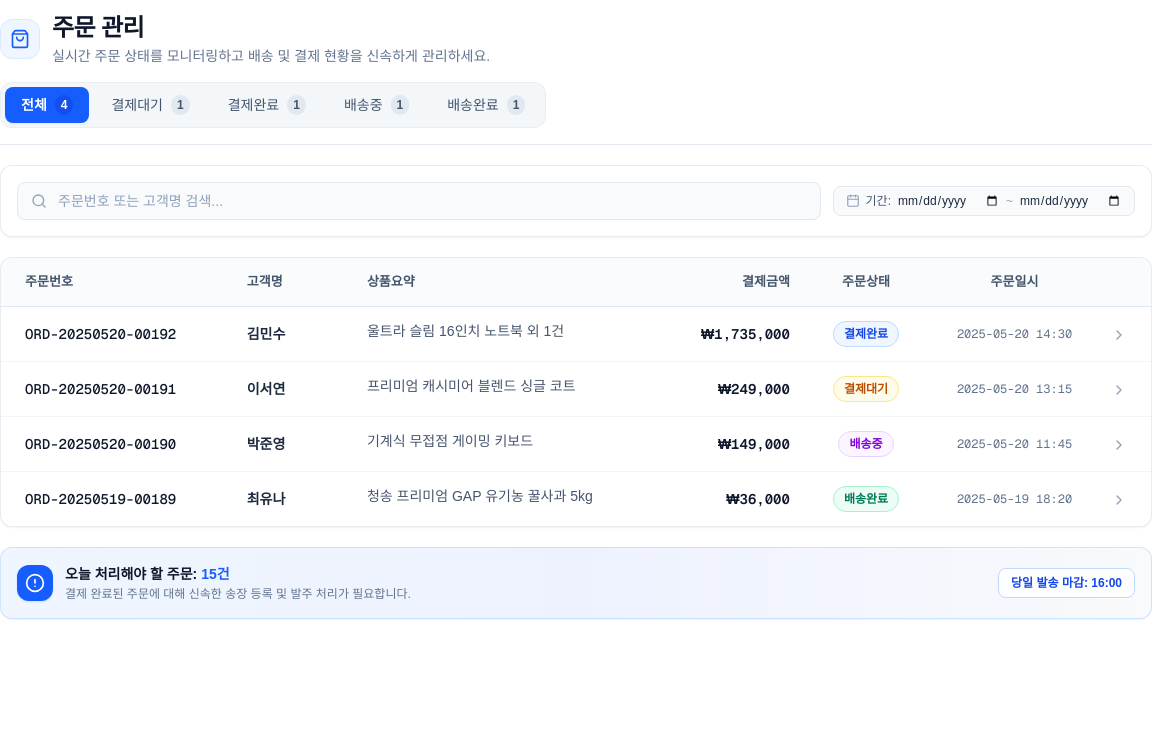
Scenario: OrderView Component (Integration Test) › 상태별 탭 클릭 시 해당 상태의 주문만 필터링된다
Click the button "배송중 1". click: click(377, 105)
box: [328,87,425,123]
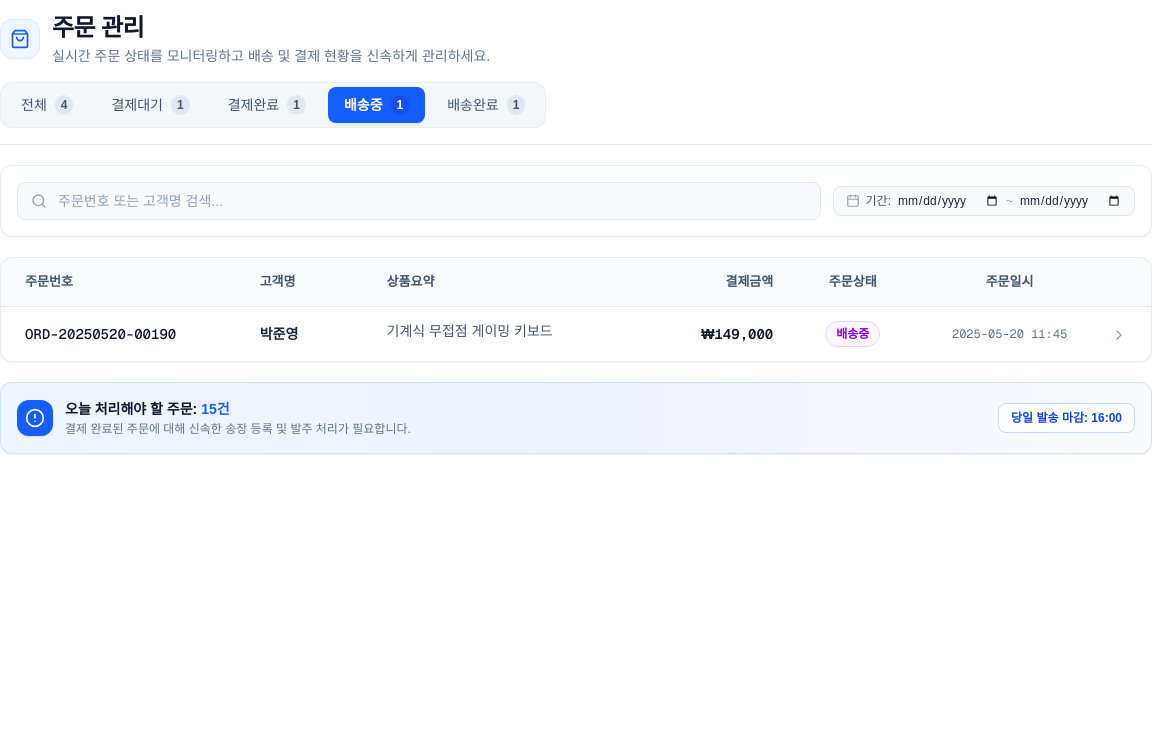
Check: the text "박준영" is shown, box [244,306,370,360]
Check: the text "김민수" is gone
Check: the text "최유나" is gone
